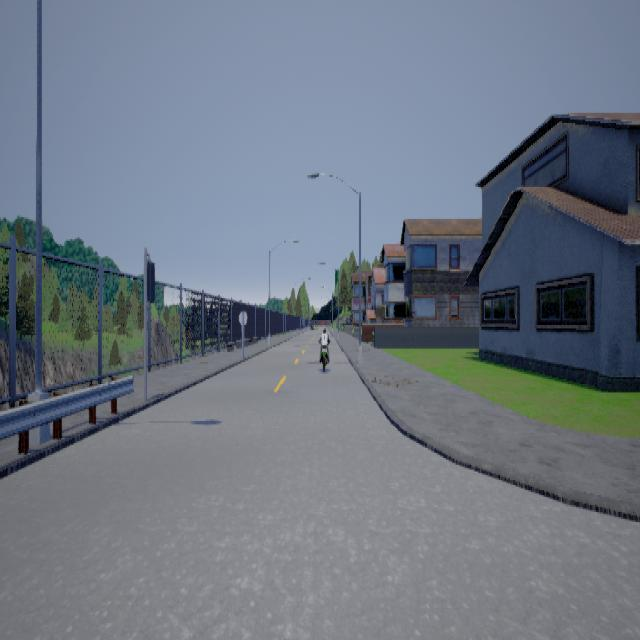motobike: (318, 325, 329, 369)
